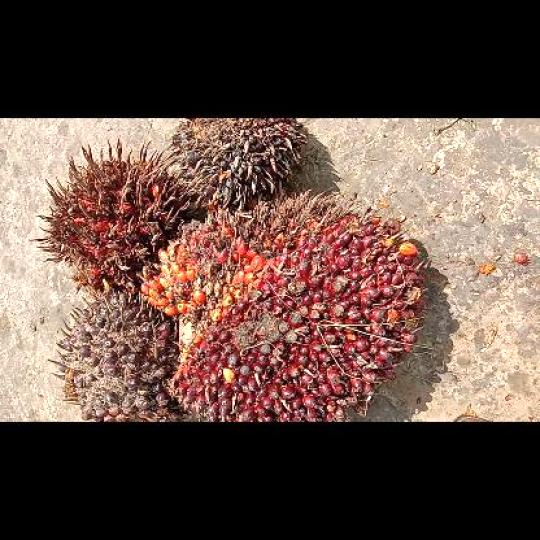kurang masak: (53, 288, 184, 421)
masak: (140, 188, 426, 420)
terlalu masak: (32, 139, 199, 292)
